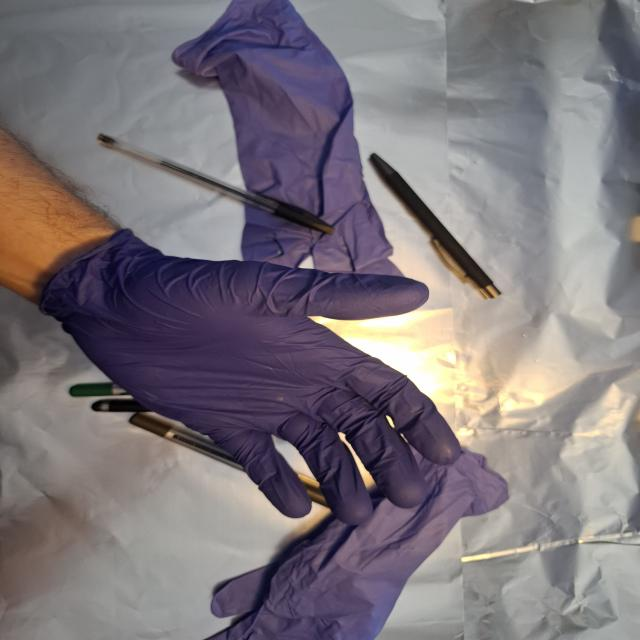glove_on: (43, 235, 465, 528)
